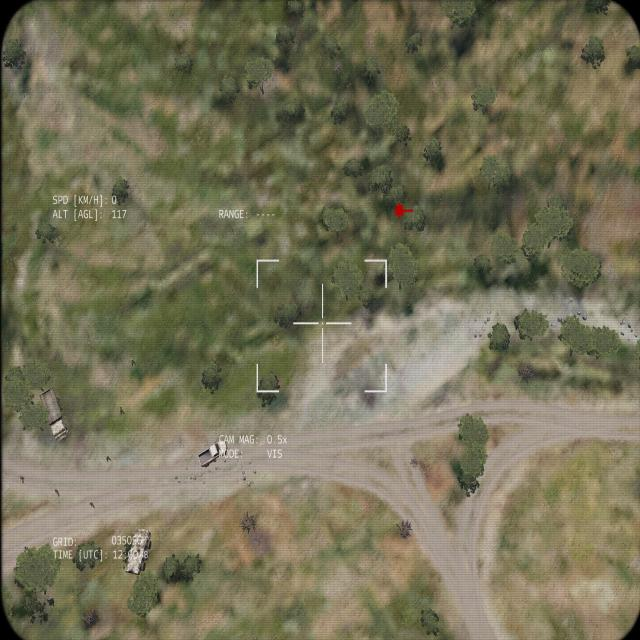apc: (125, 527, 148, 574)
car: (187, 435, 232, 470)
truck: (40, 387, 67, 440)
